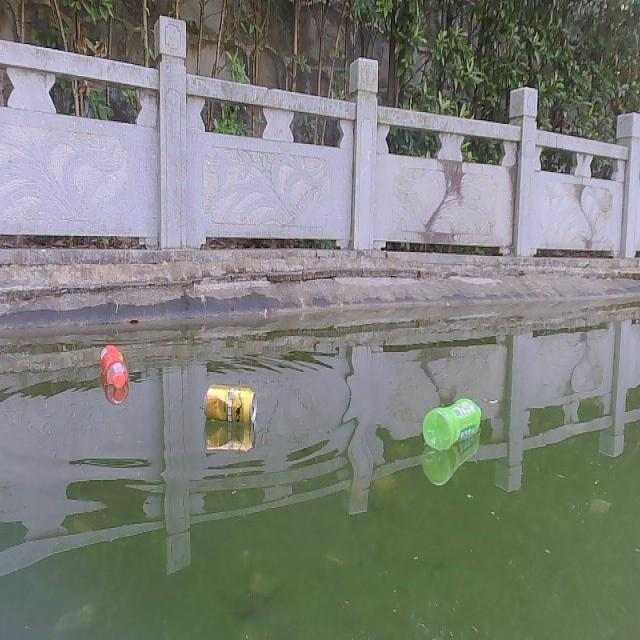Bottle: (422, 396, 482, 452), (98, 340, 128, 392)
Can: (203, 381, 257, 423)
